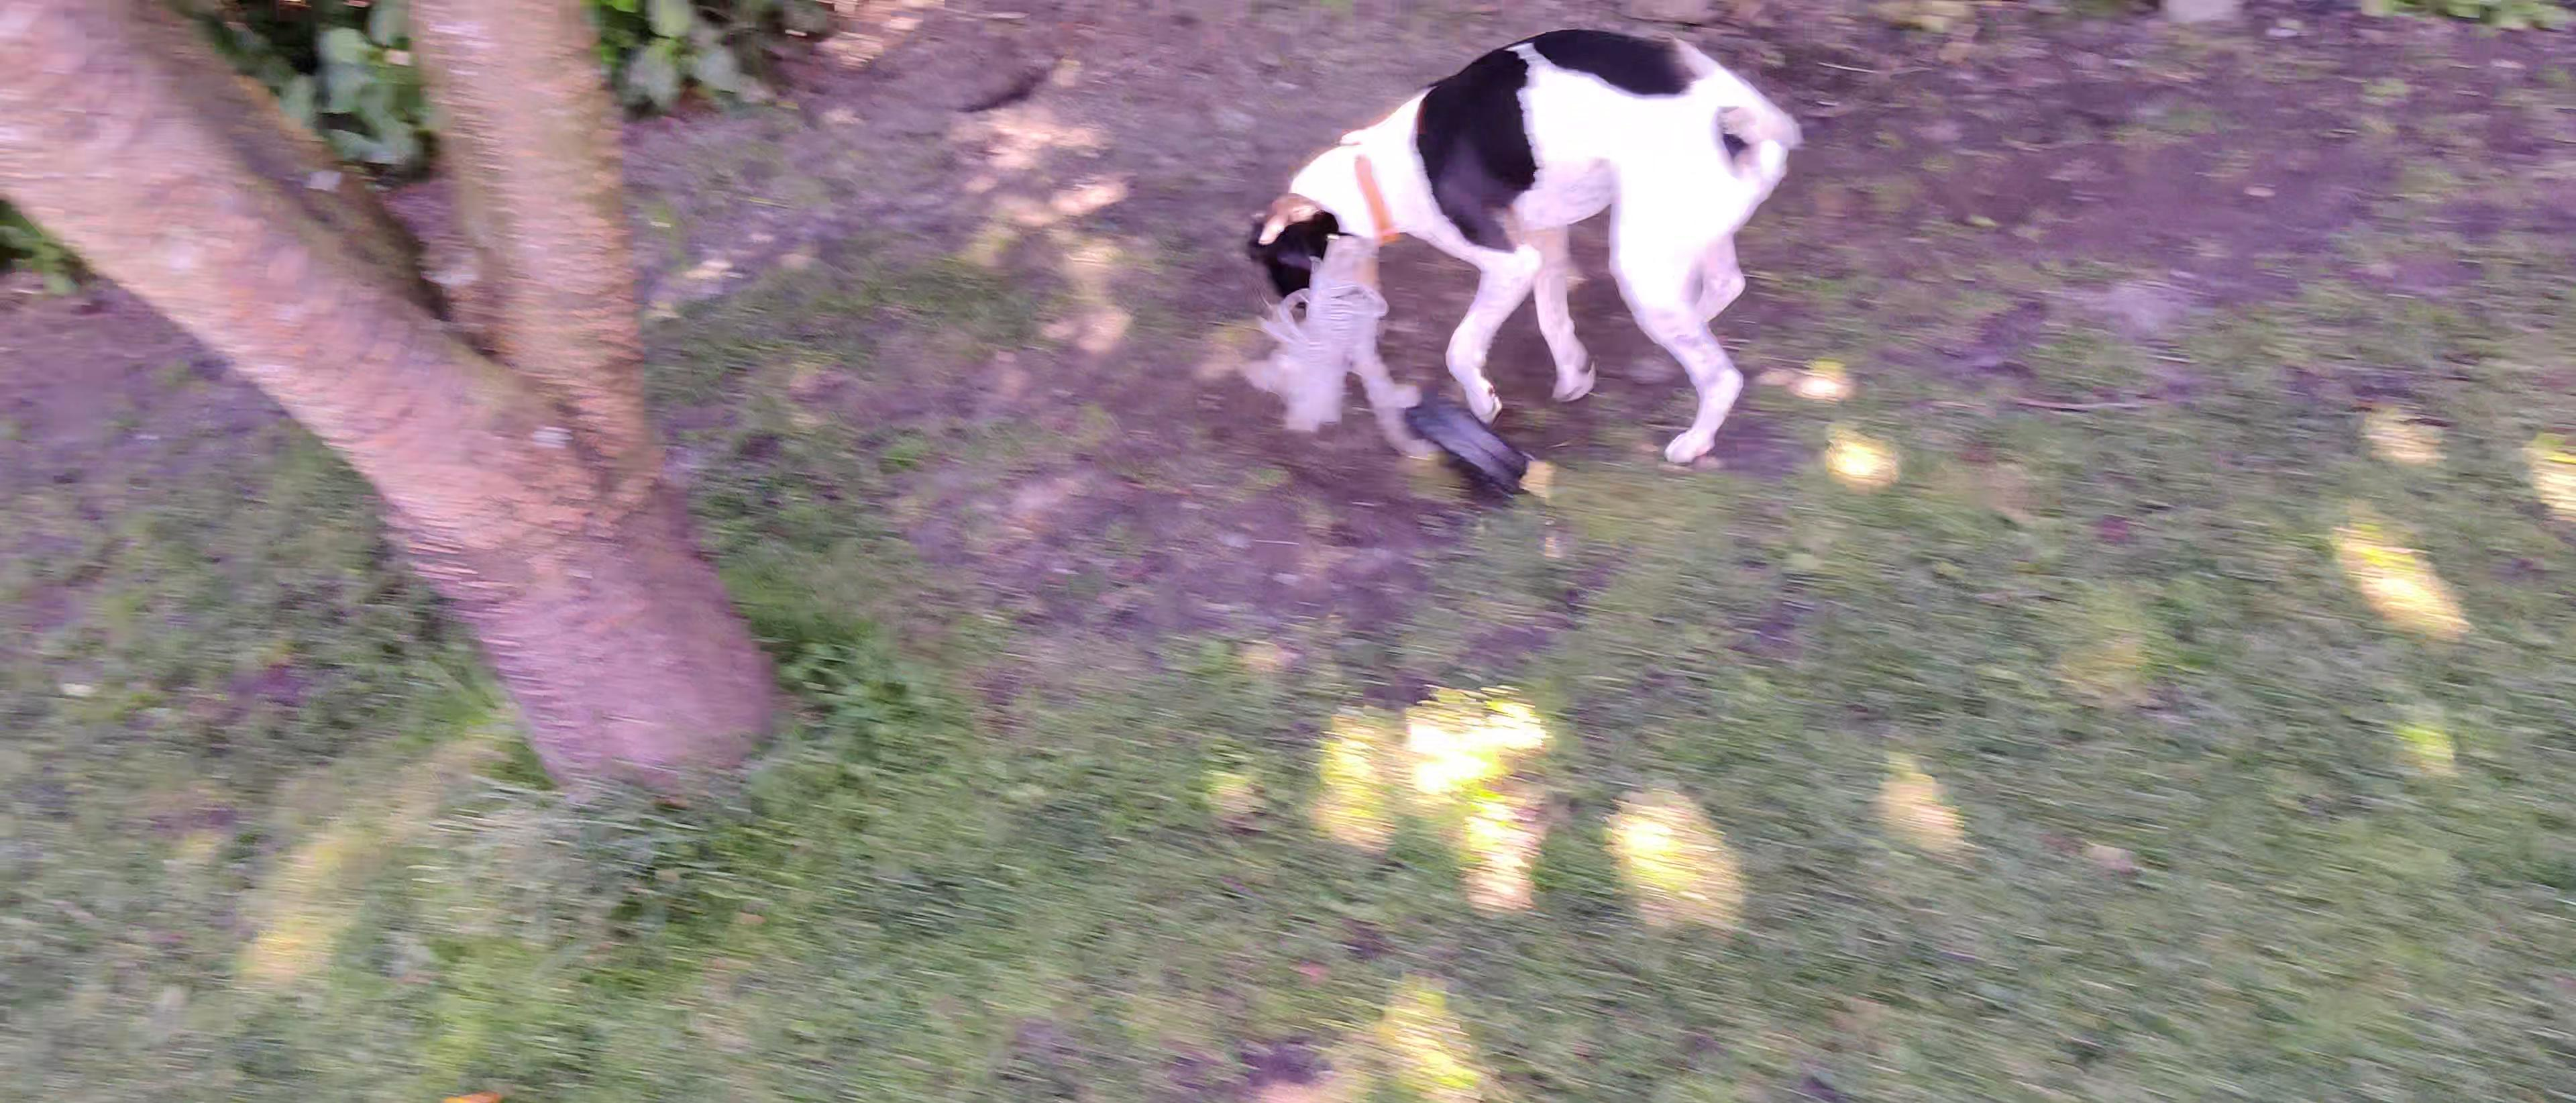Dog: (1226, 12, 1819, 465)
